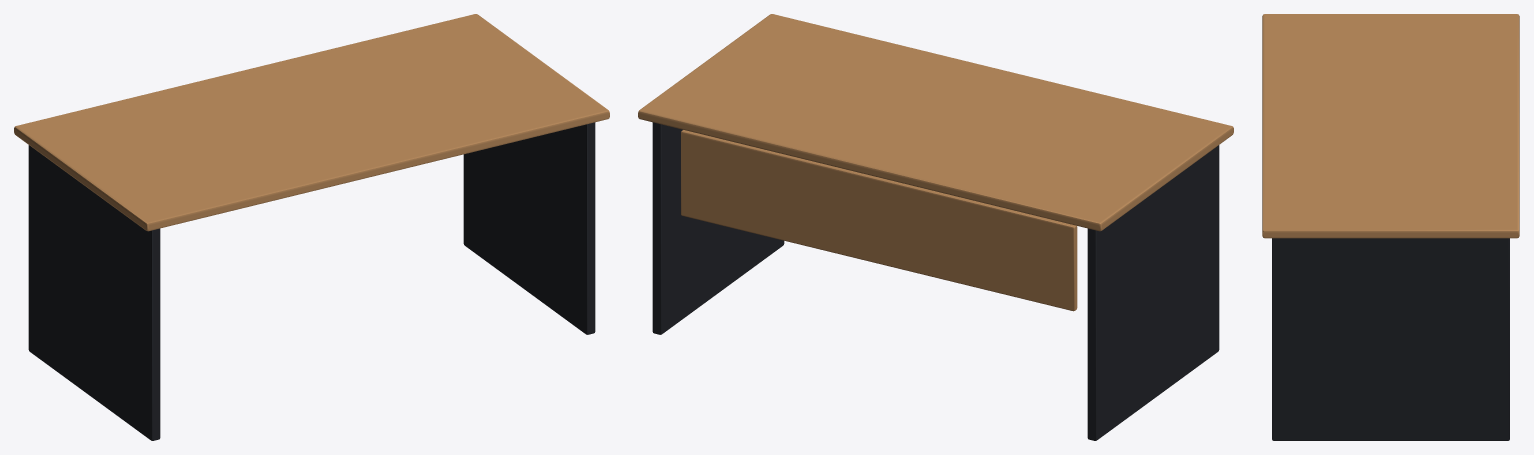
File: desk-160.glb
3 renders of one model, left to right at view 1: azimuth 30°, elevation 25°; view 2: azimuth 150°, elevation 25°; view 3: azimuth 270°, elevation 25°, orthographic. The views are drawn at different scales.
Parts seen in each view (by area): view 1: desk-160; view 2: desk-160; view 3: desk-160.
Part boxes in pixels (<box>): desk-160: <box>14,14,609,440</box>; desk-160: <box>638,14,1233,440</box>; desk-160: <box>1262,14,1519,440</box>.
Size of the model in its own units: 1.6 by 0.74 by 0.8.
